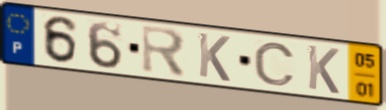6: (86, 19, 125, 70), (41, 14, 79, 66)
C: (252, 40, 298, 87)
K: (306, 43, 342, 97), (197, 30, 233, 84)
R: (140, 23, 189, 80)
